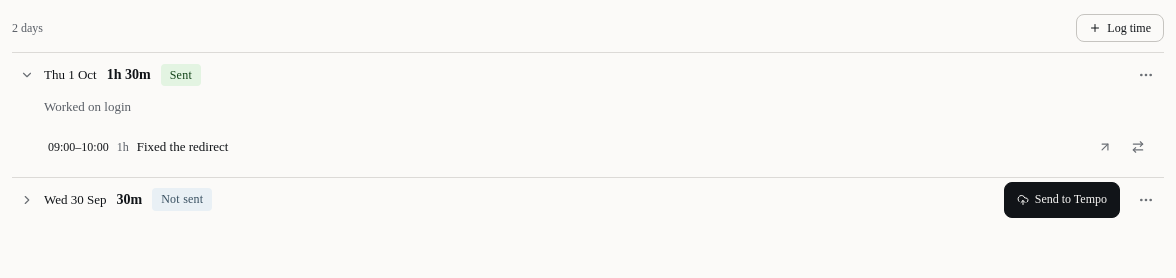
Test: TaskWorkLog read › tags manual blocks Edited and shows No description
expect the text "2 days" is shown: met, box [12, 19, 43, 37]
Click the button with class "task-day-toggle" showing "Wed 30 Sep 30m Not sent" at (75, 199), box [12, 178, 996, 222]
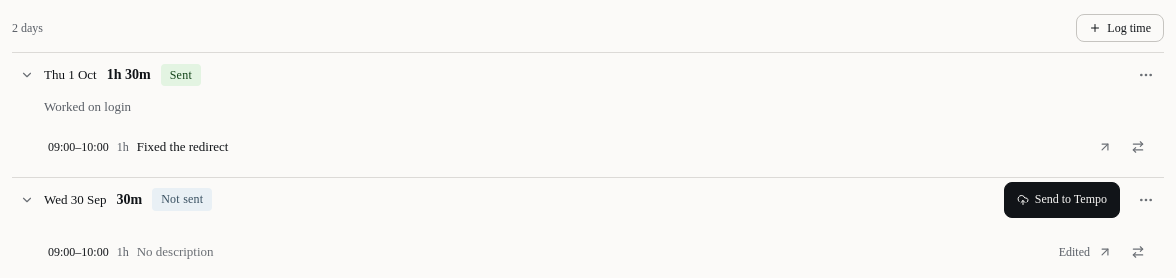
expect the text "Edited" is shown: met, box [1059, 243, 1090, 261]
